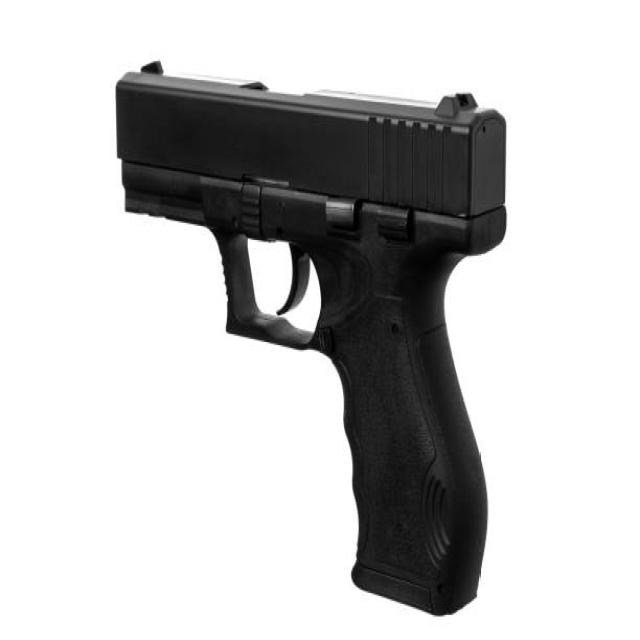pistol: (108, 56, 513, 620)
